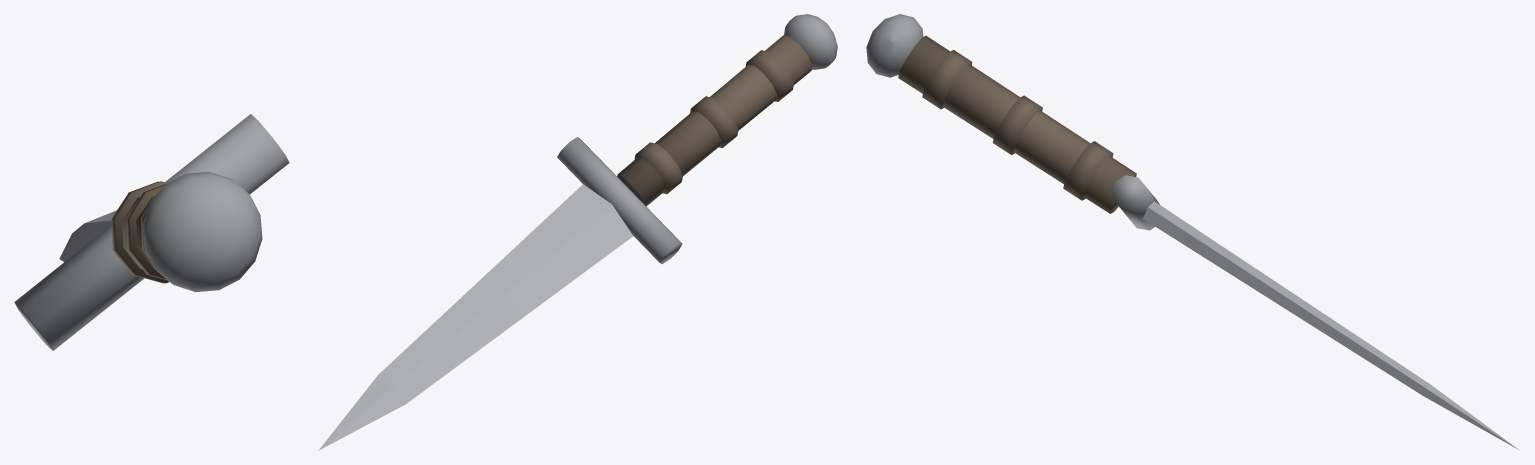
File: DaggerStowed.fbx
The picture shows the model from 3 angles, left to right: view 1: azimuth 30°, elevation 25°; view 2: azimuth 150°, elevation 25°; view 3: azimuth 270°, elevation 25°; orthographic projection. The views are drawn at different scales.
Visible parts, largest first — view 1: DaggerStowed; view 2: DaggerStowed; view 3: DaggerStowed.
Part boxes in pixels (x1,y1,x2,y2): DaggerStowed: (14,114,289,350); DaggerStowed: (318,14,837,450); DaggerStowed: (866,14,1519,450).
Bounding box in the file's own units: 10.93 × 12.36 × 23.09.
